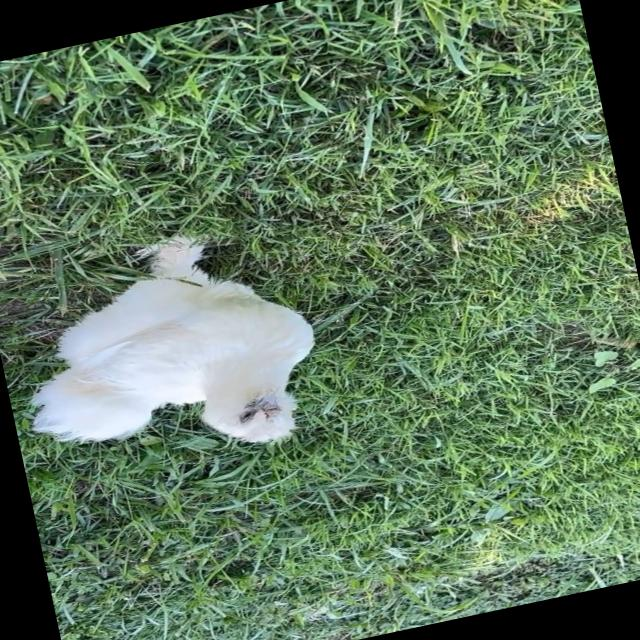menacing: (0, 199, 376, 515)
